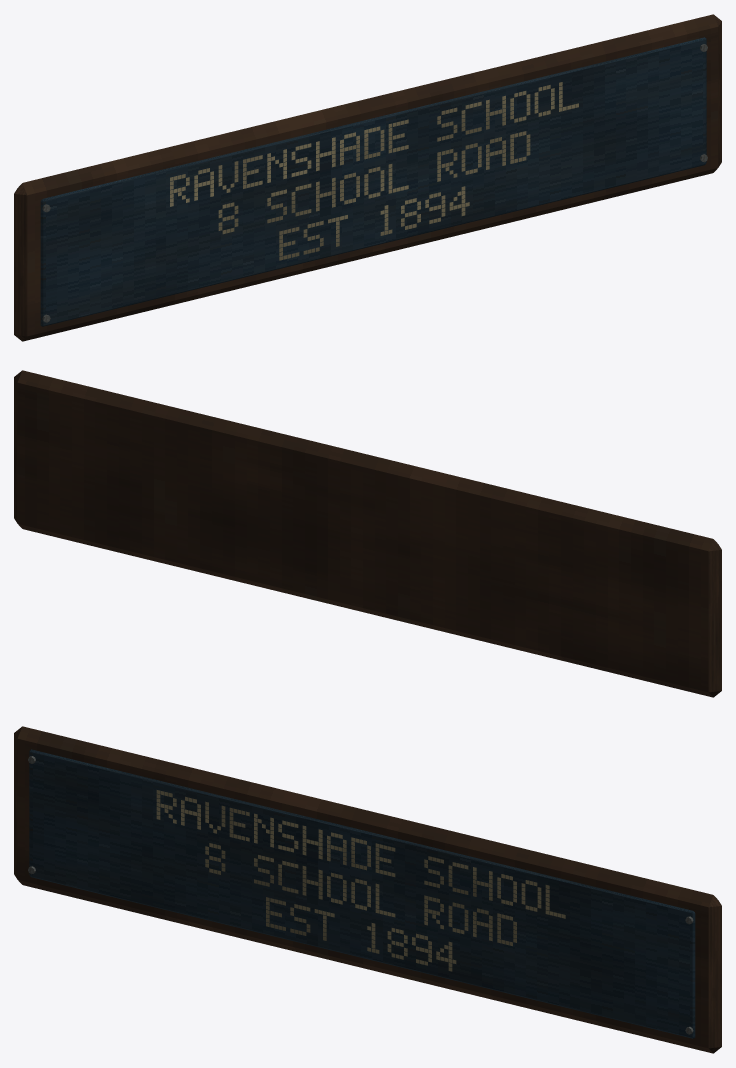
Rendered from level_sign_school_worn.glb.
3 views of the same model, one above another, from view 1: azimuth 30°, elevation 25°; view 2: azimuth 150°, elevation 25°; view 3: azimuth 330°, elevation 25° (orthographic).
Parts seen in each view (by area): view 1: level_sign_school_worn; view 2: level_sign_school_worn; view 3: level_sign_school_worn.
Boxes of the visible parts, x1=… form: level_sign_school_worn: x1=14, y1=14, x2=721, y2=341; level_sign_school_worn: x1=14, y1=370, x2=721, y2=697; level_sign_school_worn: x1=14, y1=726, x2=721, y2=1053.
Bounding box in the file's own units: 1.68 × 0.36 × 0.053.
Materials: 4 (4 with a texture image).
